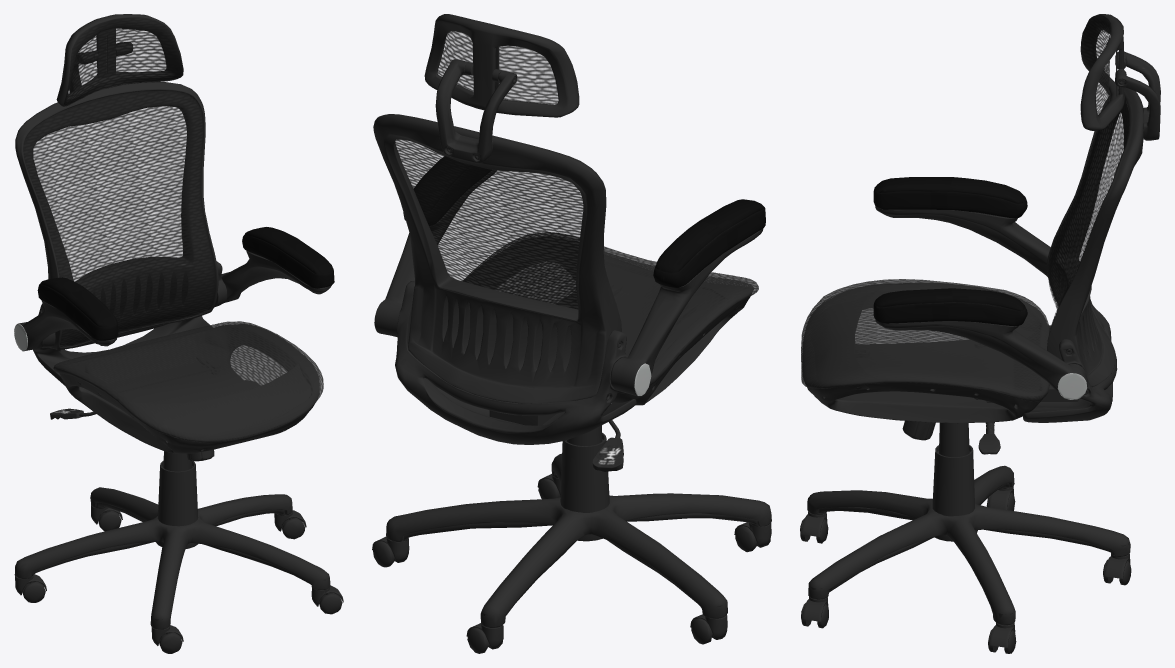
The model's file is abo-B07Q5SBTK5.glb.
3 renders of one model, left to right at view 1: azimuth 30°, elevation 25°; view 2: azimuth 150°, elevation 25°; view 3: azimuth 270°, elevation 25°, orthographic. The views are drawn at different scales.
Bounding box in the file's own units: 0.6495 × 1.1 × 0.6505.
1 material, 1 textured.
